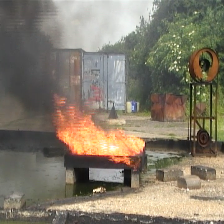fire_h: (53, 93, 144, 156)
fire_l: (108, 156, 139, 171)
